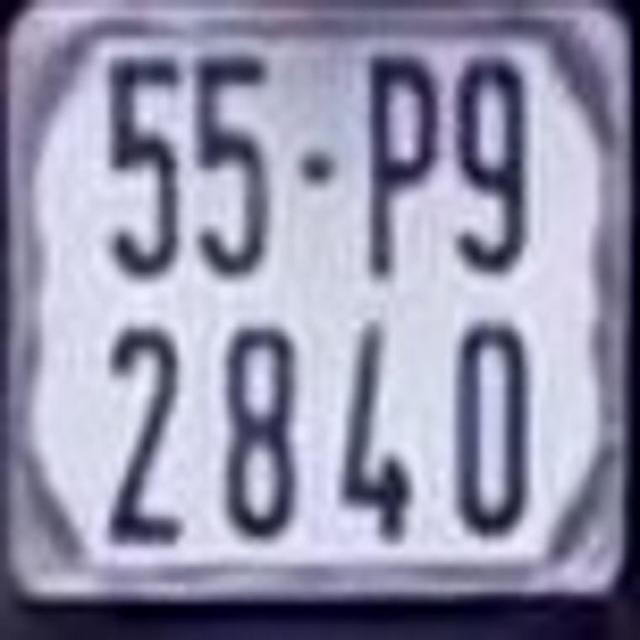0: (448, 307, 532, 543)
2: (98, 321, 186, 546)
4: (335, 308, 417, 544)
5: (102, 45, 185, 278), (190, 44, 269, 280)
8: (218, 320, 302, 541)
9: (447, 44, 532, 284)
P: (362, 42, 442, 281)
